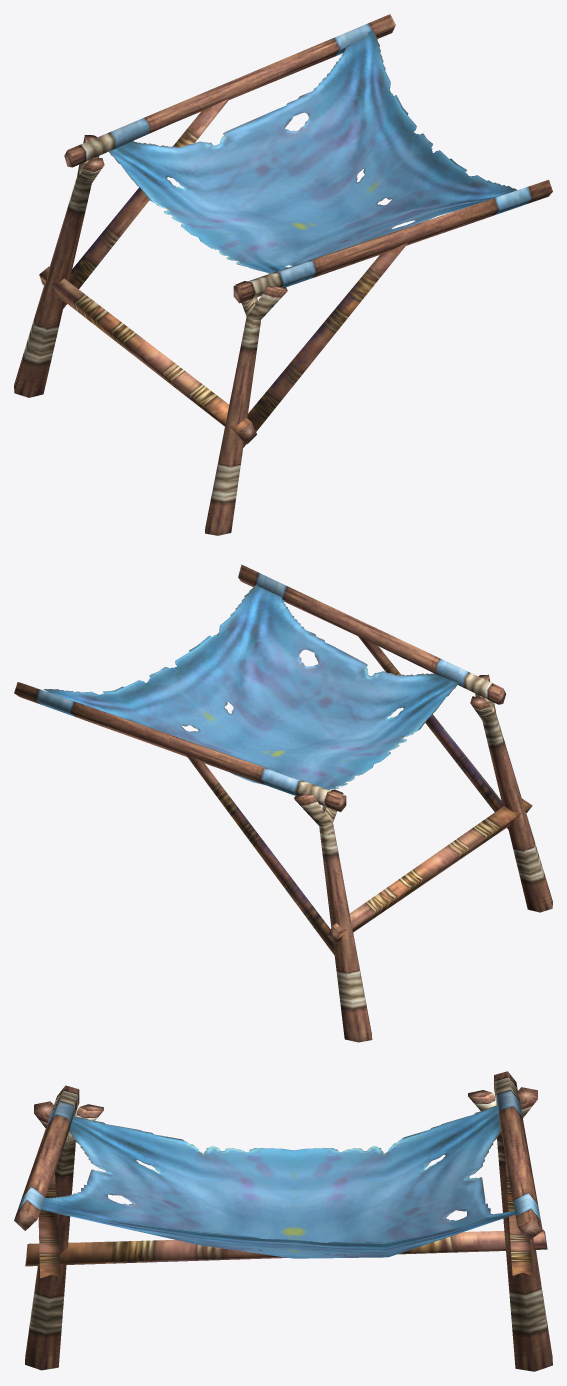
Rendered from goblintent02.obj.
The picture shows the model from 3 angles, top to bottom: view 1: azimuth 30°, elevation 25°; view 2: azimuth 150°, elevation 25°; view 3: azimuth 270°, elevation 25°; orthographic projection. The views are drawn at different scales.
Parts seen in each view (by area): view 1: goblintent02; view 2: goblintent02; view 3: goblintent02.
Part boxes in pixels (<box>): goblintent02: <box>14,14,552,535</box>; goblintent02: <box>14,564,552,1042</box>; goblintent02: <box>14,1071,552,1371</box>.
Size of the model in its own units: 5.08 by 3.73 by 4.9.
